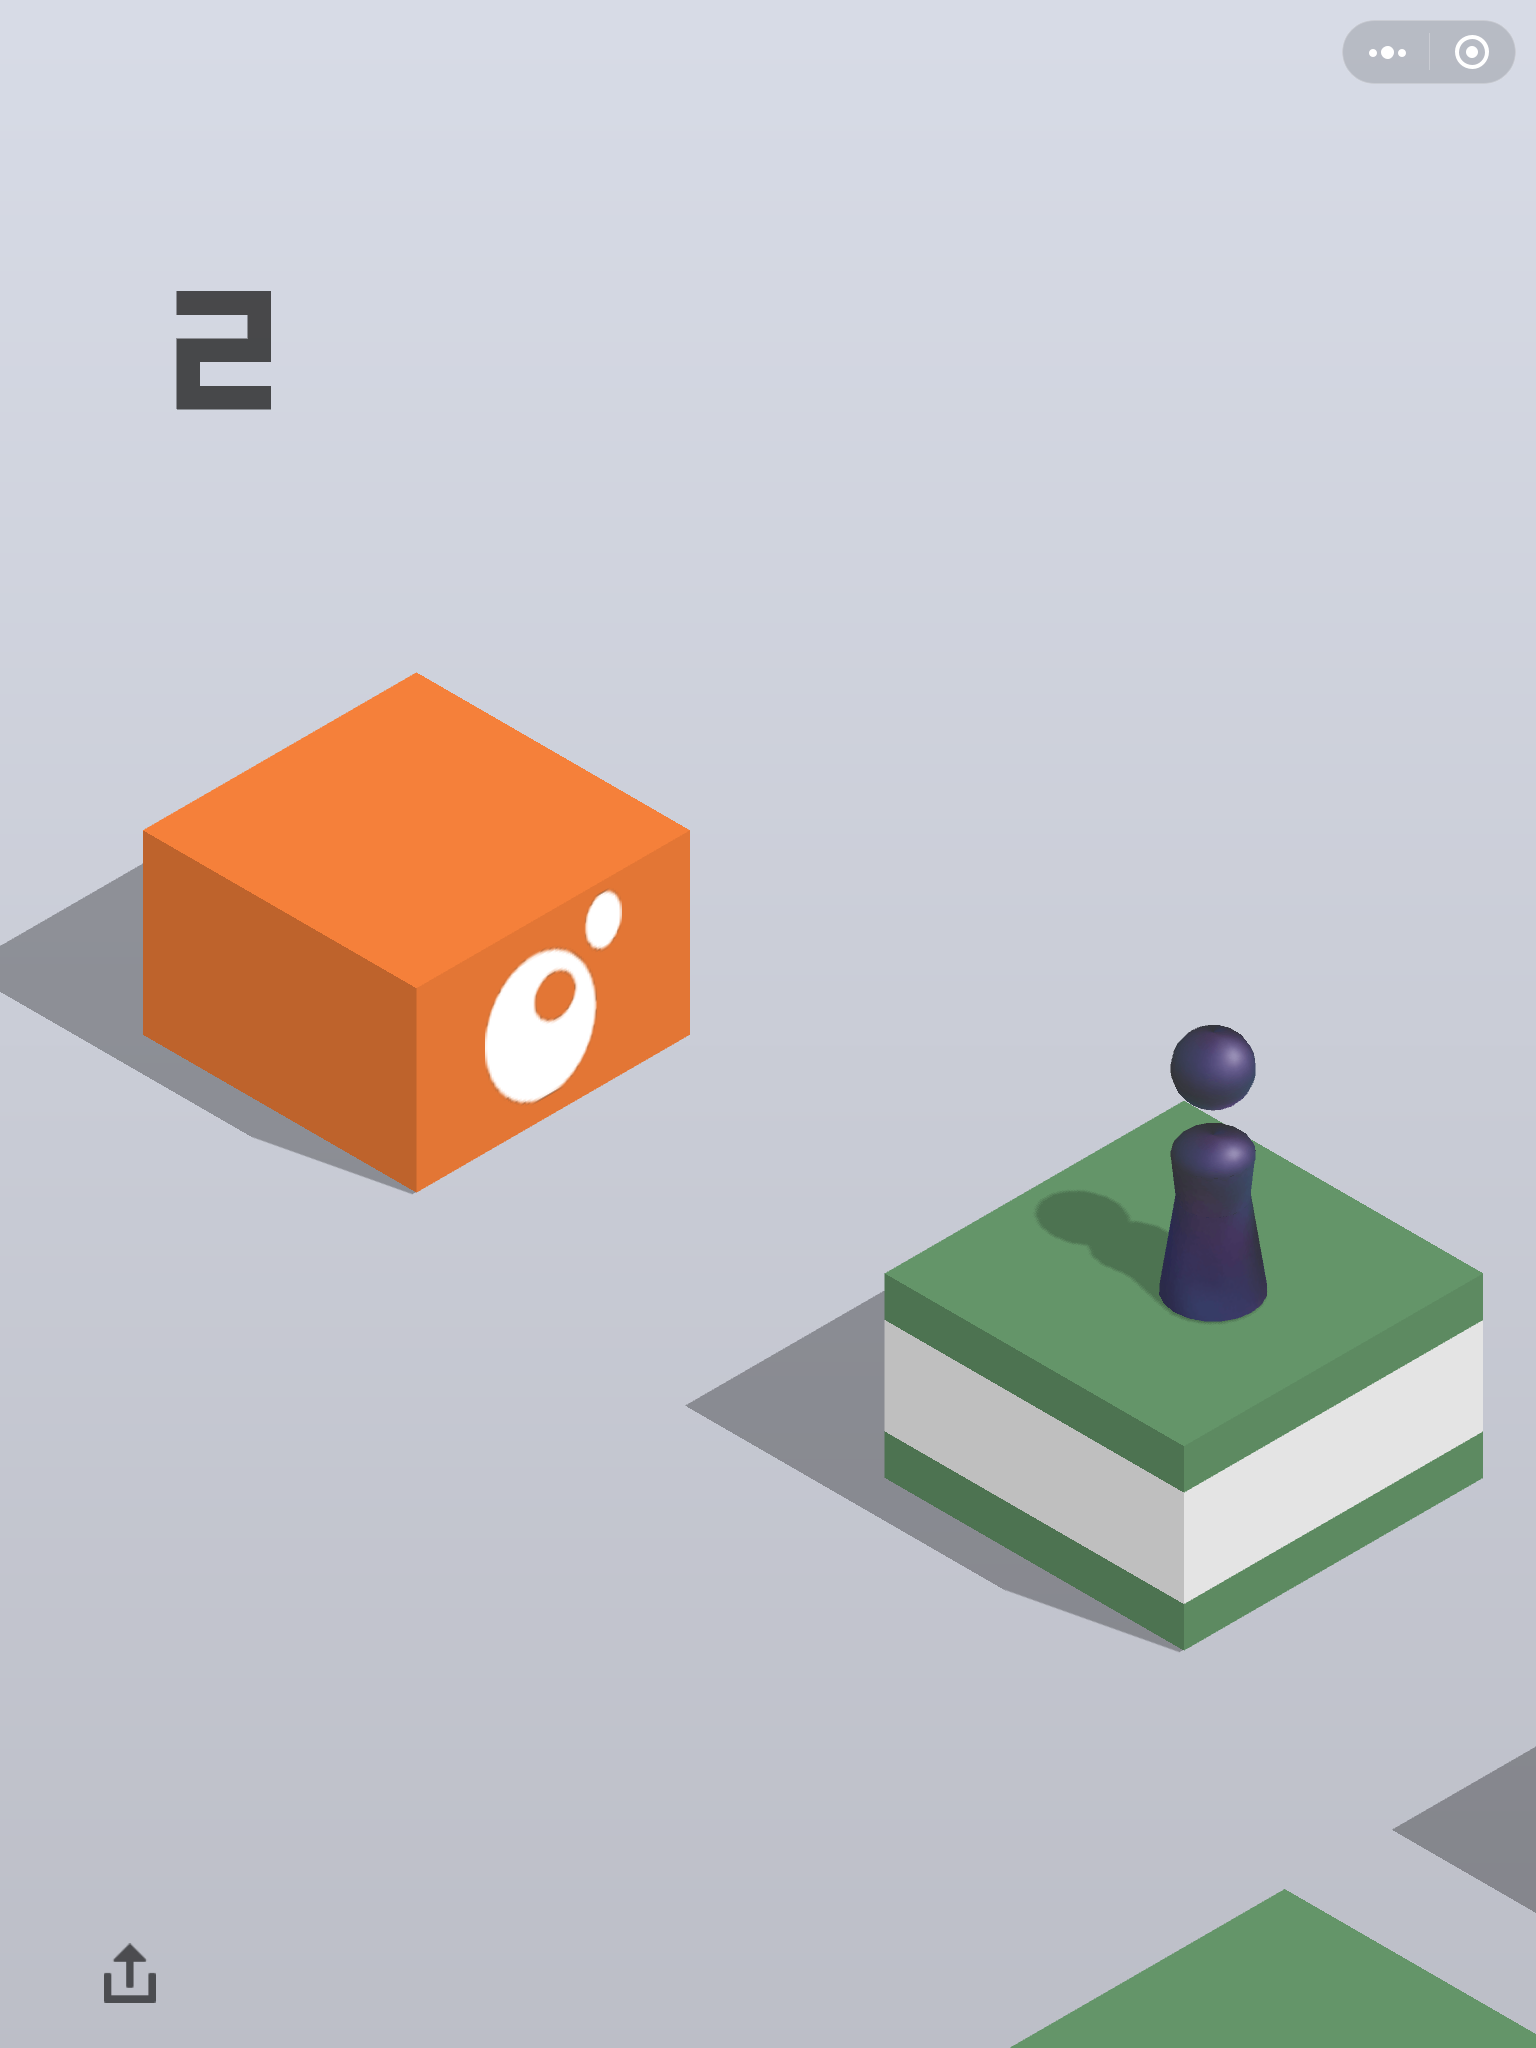f: (878, 1095, 1489, 1663), (140, 668, 694, 1195), (1000, 1884, 1536, 2046)
r: (1154, 1011, 1271, 1329)
